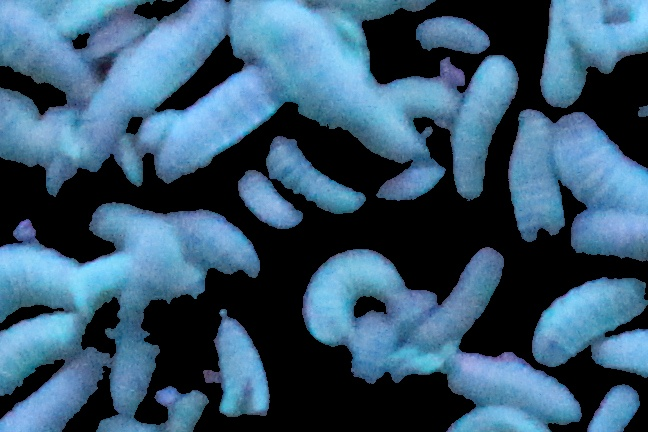larvae: (232, 1, 420, 159), (98, 1, 231, 118), (160, 69, 276, 180), (297, 247, 405, 343), (530, 277, 646, 366), (443, 350, 580, 422), (551, 110, 648, 211), (454, 54, 518, 201), (417, 245, 504, 347), (1, 3, 93, 96), (1, 353, 109, 432), (267, 137, 366, 213), (539, 1, 609, 107), (510, 108, 564, 241), (1, 308, 80, 393), (171, 206, 262, 277), (212, 314, 275, 414), (107, 307, 162, 414), (1, 241, 76, 318), (568, 207, 648, 259), (236, 170, 304, 228), (385, 77, 460, 127), (1, 90, 50, 163), (69, 253, 131, 308), (78, 14, 155, 58), (442, 403, 551, 432), (375, 158, 445, 202), (561, 11, 613, 70), (592, 326, 648, 378), (322, 7, 370, 64), (414, 19, 492, 52), (587, 385, 639, 432), (35, 106, 78, 158), (137, 107, 181, 150), (604, 19, 648, 59), (114, 134, 147, 184)
